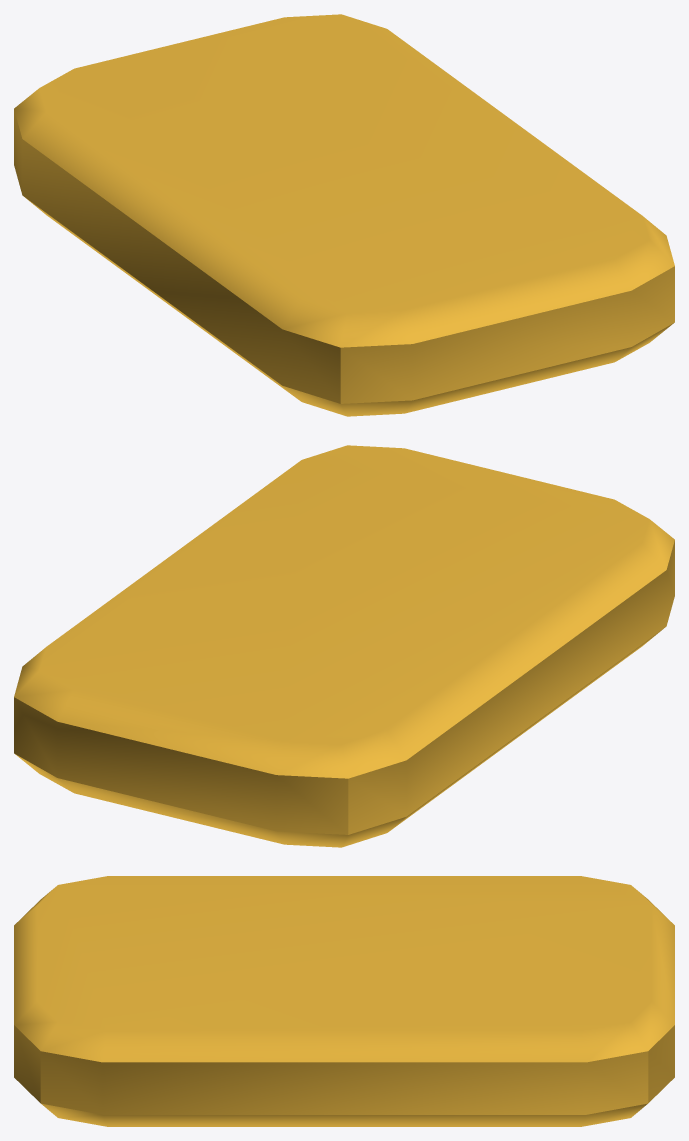
Rendered from barra_ouro_pequena_pacote.glb.
The picture shows the model from 3 angles, top to bottom: view 1: azimuth 30°, elevation 25°; view 2: azimuth 150°, elevation 25°; view 3: azimuth 270°, elevation 25°; orthographic projection. The views are drawn at different scales.
Parts seen in each view (by area): view 1: barra_ouro_pequena_pacote; view 2: barra_ouro_pequena_pacote; view 3: barra_ouro_pequena_pacote.
Boxes of the visible parts, bbox=[...] form: barra_ouro_pequena_pacote: bbox=[14, 14, 674, 416]; barra_ouro_pequena_pacote: bbox=[14, 445, 674, 847]; barra_ouro_pequena_pacote: bbox=[14, 876, 674, 1126].
Bounding box in the file's own units: 0.118 × 0.0304 × 0.1889.
1 material, 1 textured.
